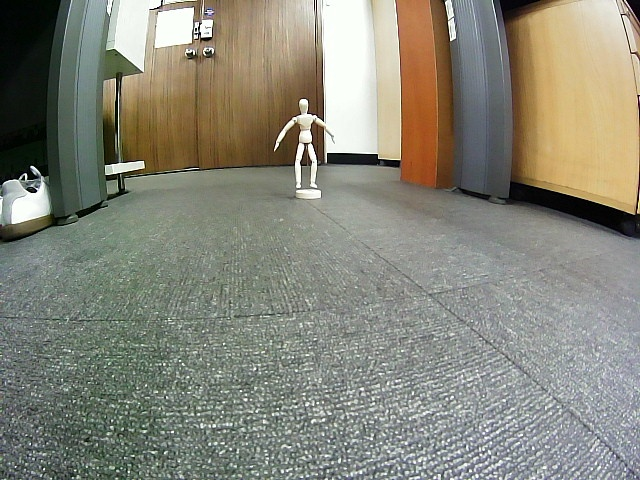person: (274, 98, 335, 189)
